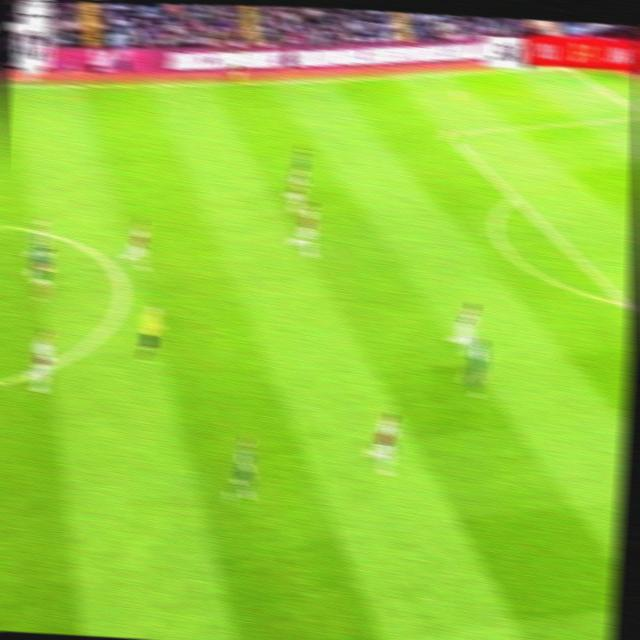bigarea_top_inner: (438, 120, 461, 143)
bottom_arc_area_intersection: (614, 290, 634, 313)
corner: (556, 61, 580, 75)
top_arc_area_intersection: (505, 186, 527, 207)
